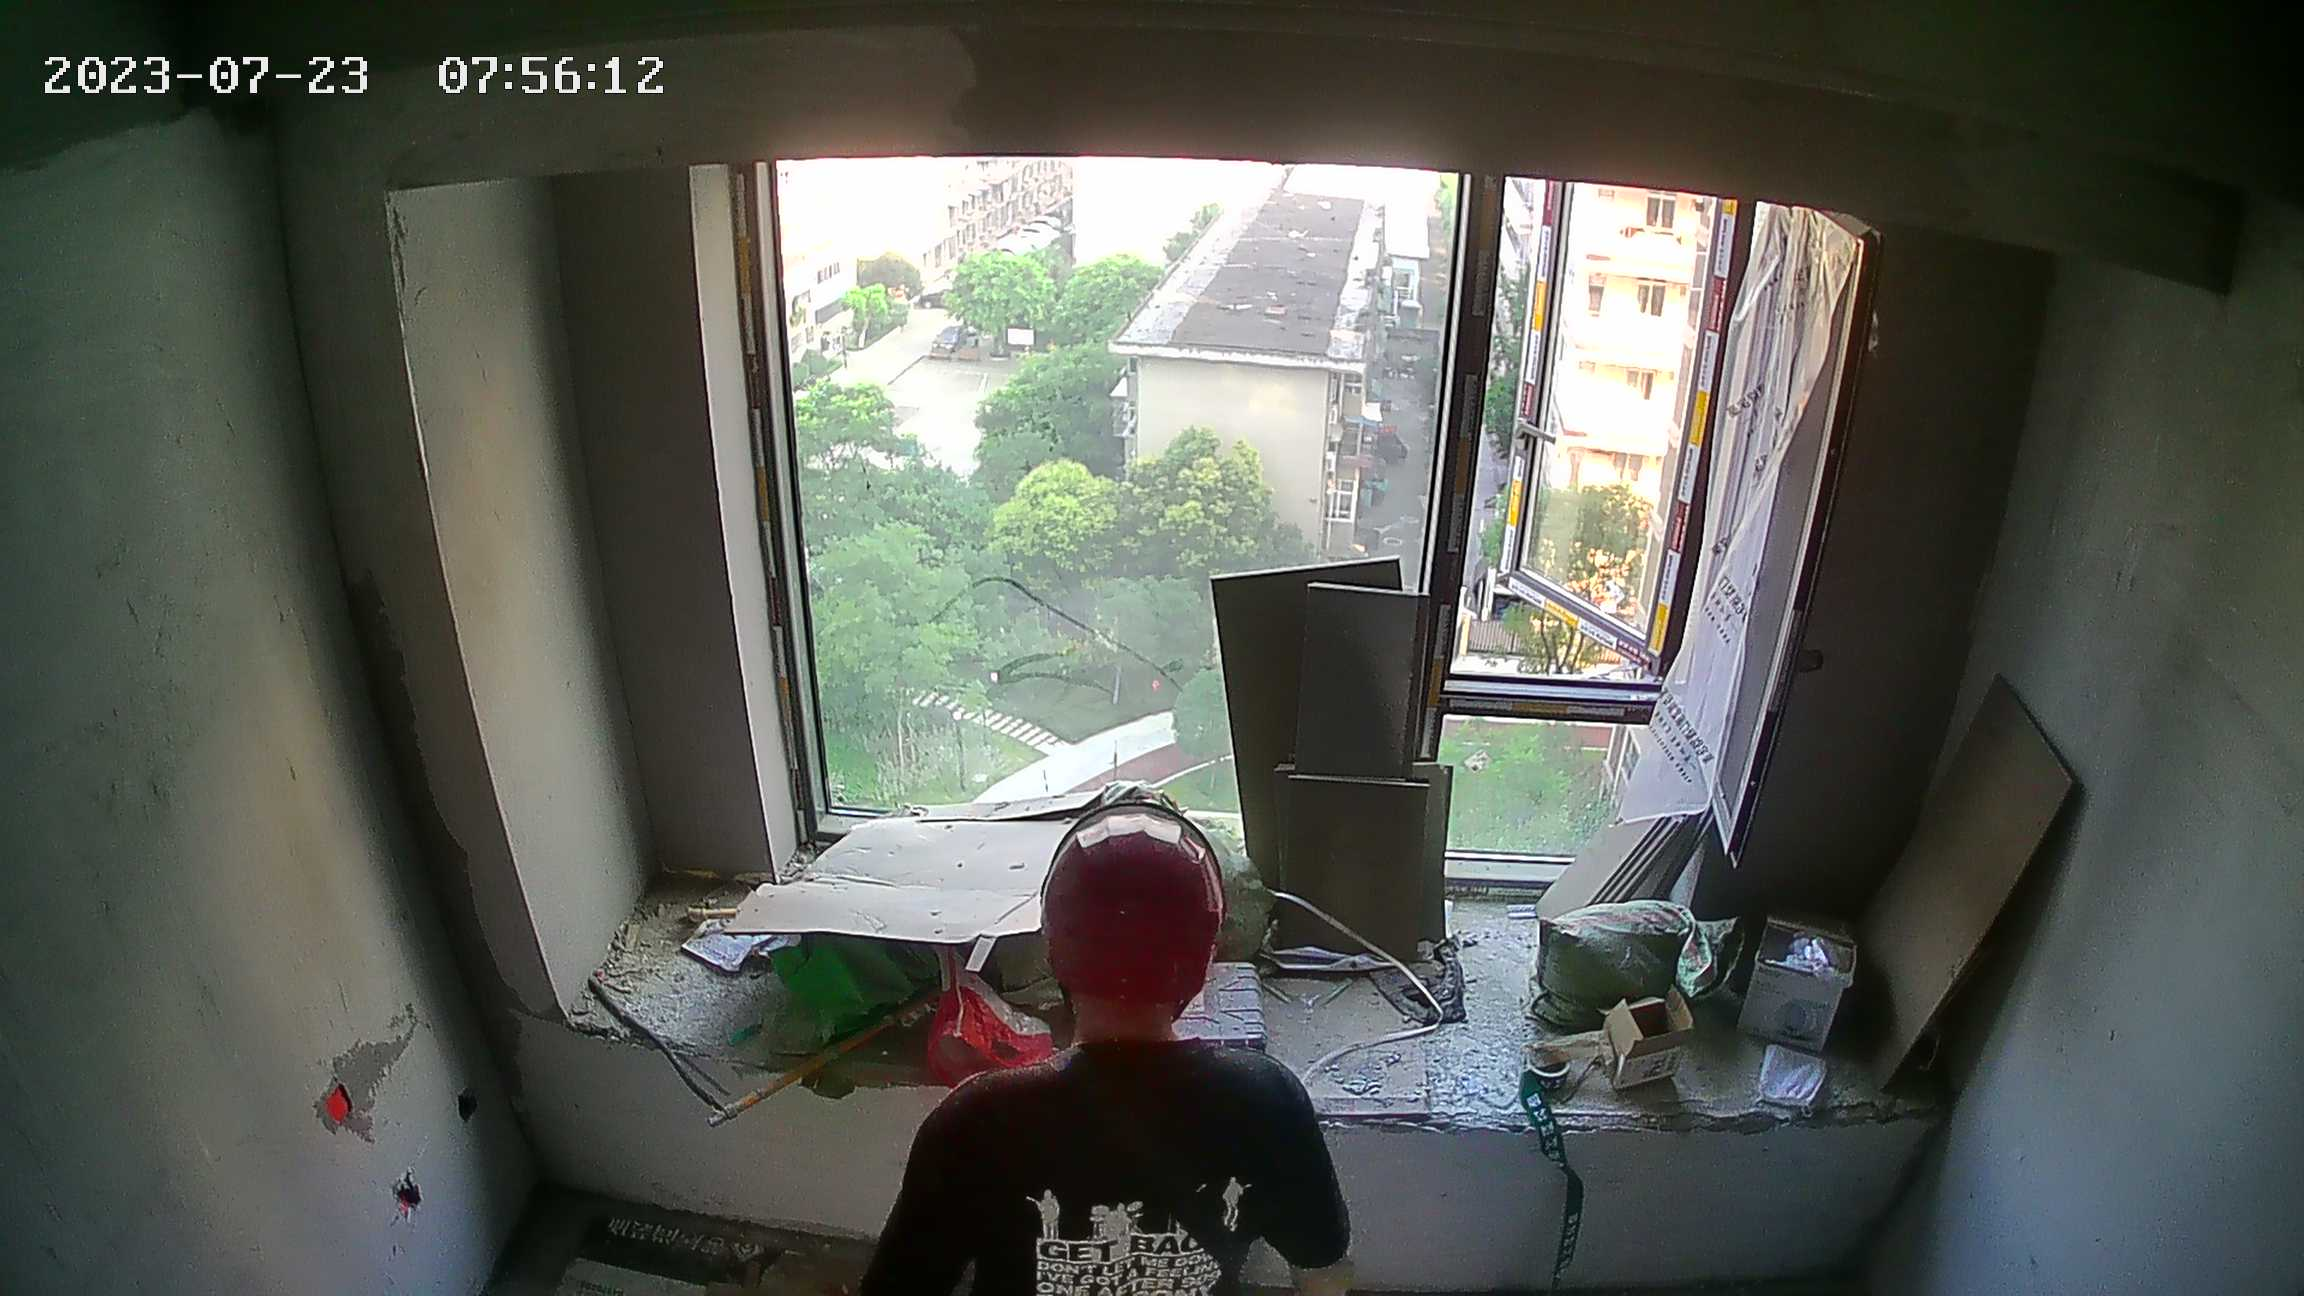people: (862, 803, 1350, 1296)
window: (749, 154, 1756, 901)
